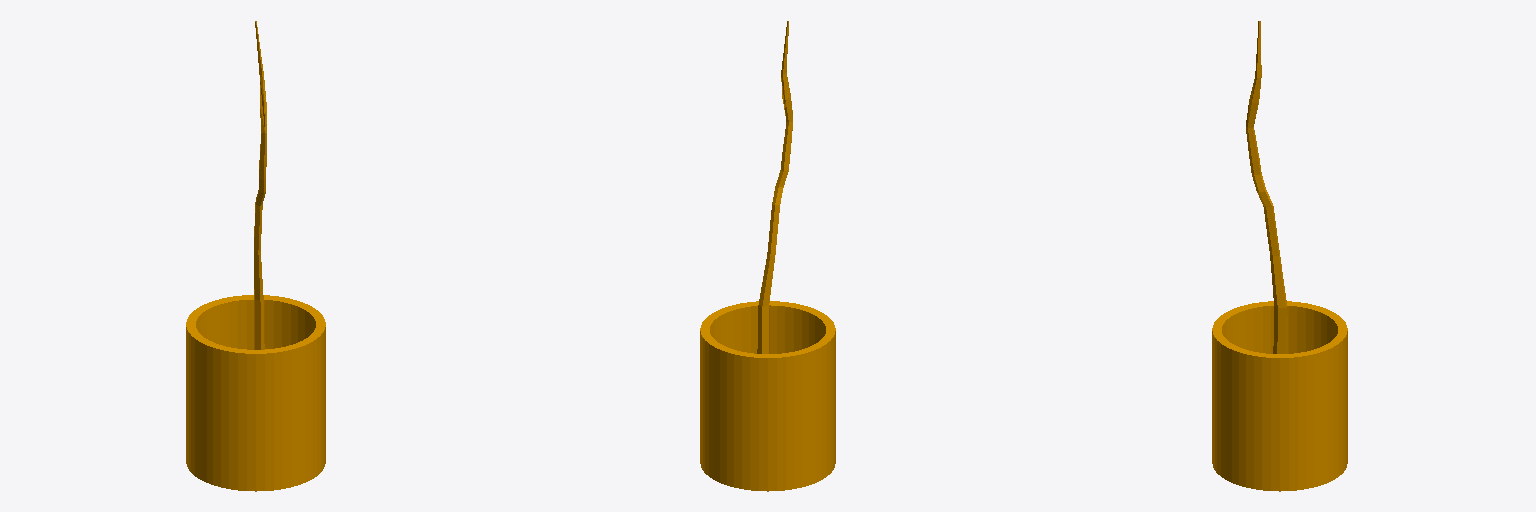
robot.urdf — 1ab5af367e30508d9ec500769fff320:
<?xml version="1.0" ?>
<robot name="1ab5af367e30508d9ec500769fff320" version="1.0">
  <link name="base_link">
    <inertial>
      <origin rpy="0.0 0.0 0.0" xyz="0.0 0.0 0.0"/>
      <mass value="0.0"/>
      <inertia ixx="0.001" ixy="0.0" ixz="0.0" iyy="0.001" iyz="0.0" izz="0.001"/>
    </inertial>
    <visual name="1ab5af367e30508d9ec500769fff320___2">
      <origin rpy="0.0 0.0 0.0" xyz="0.0 -0.0 0.0"/>
      <geometry>
        <mesh filename="shape/visual/1ab5af367e30508d9ec500769fff320_m2_vm.obj"/>
      </geometry>
    </visual>
    <visual name="1ab5af367e30508d9ec500769fff320___1">
      <origin rpy="0.0 0.0 0.0" xyz="0.0 -0.0 0.0"/>
      <geometry>
        <mesh filename="shape/visual/1ab5af367e30508d9ec500769fff320_m1_vm.obj"/>
      </geometry>
    </visual>
    <visual name="1ab5af367e30508d9ec500769fff320___3">
      <origin rpy="0.0 0.0 0.0" xyz="0.0 -0.0 0.0"/>
      <geometry>
        <mesh filename="shape/visual/1ab5af367e30508d9ec500769fff320_m3_vm.obj"/>
      </geometry>
    </visual>
    <collision>
      <origin rpy="0.0 0.0 0.0" xyz="0.0 -0.0 0.0"/>
      <geometry>
        <mesh filename="shape/collision/1ab5af367e30508d9ec500769fff320_cm.obj"/>
      </geometry>
    </collision>
  </link>
</robot>

--- Render facts (derived) ---
Views: 3 orthographic renders of the robot side by side, from view 1: azimuth 30°, elevation 25°; view 2: azimuth 150°, elevation 25°; view 3: azimuth 270°, elevation 25°.
Robot: 1ab5af367e30508d9ec500769fff320 — 1 links, 0 joints (none); root link base_link; default pose: every joint at zero.
Visible links, largest first — view 1: base_link; view 2: base_link; view 3: base_link.
Boxes of the visible links, bbox=[...] form: base_link: bbox=[186, 21, 325, 491]; base_link: bbox=[700, 21, 835, 491]; base_link: bbox=[1212, 21, 1347, 491].
Bounding box of the posed robot: 0.168 × 0.168 × 0.6007 m (x, y, z).
2 mesh visuals loaded from 3 distinct referenced files (2 OBJ); not drawn: 1 (reference not matched to a file when rendering).